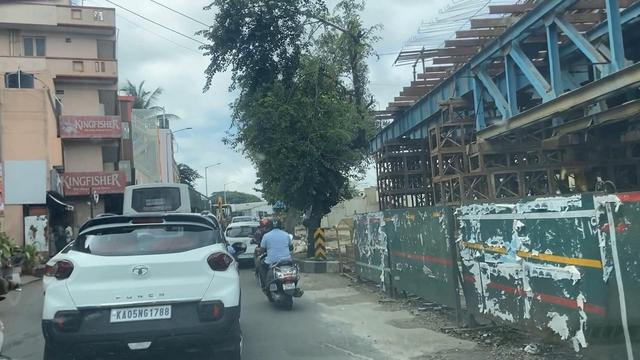LMV: (45, 230, 230, 345), (261, 217, 297, 302)
